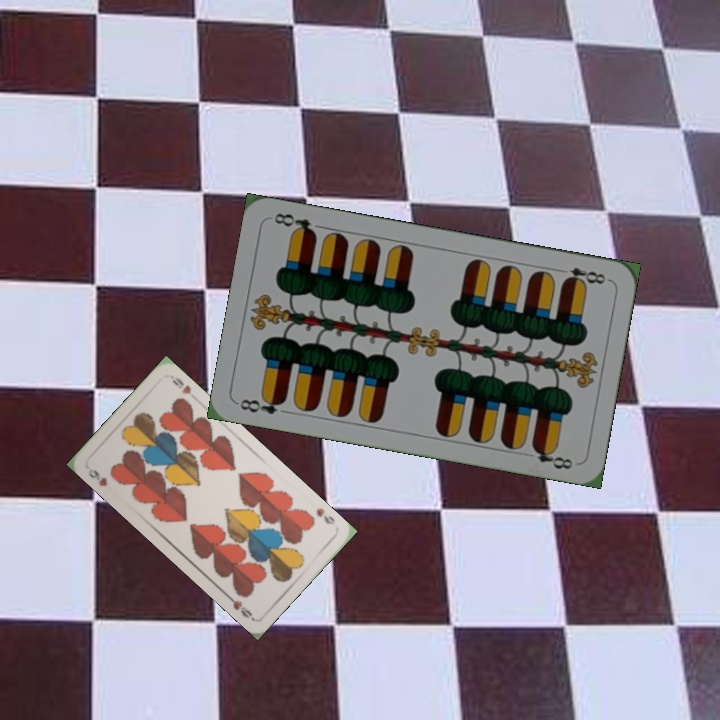E8: (553, 263, 612, 289), (236, 391, 289, 417)
H9: (84, 465, 111, 489), (312, 504, 337, 527)
